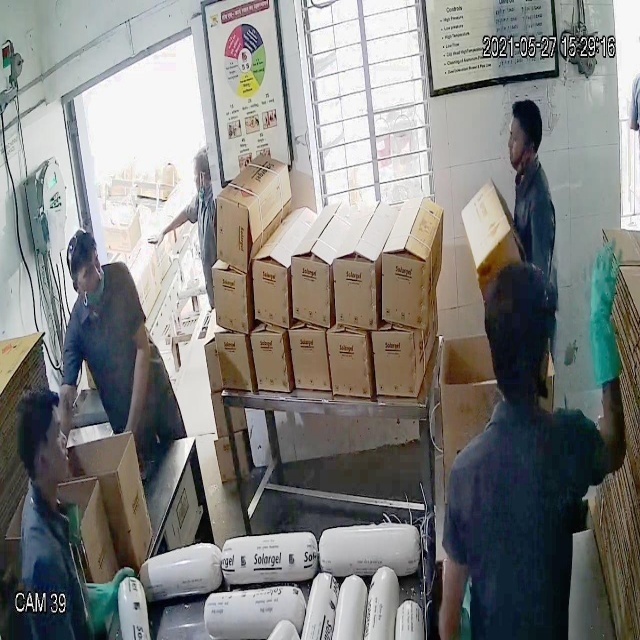Sin_gafas: (65, 251, 107, 284), (502, 122, 532, 153)
